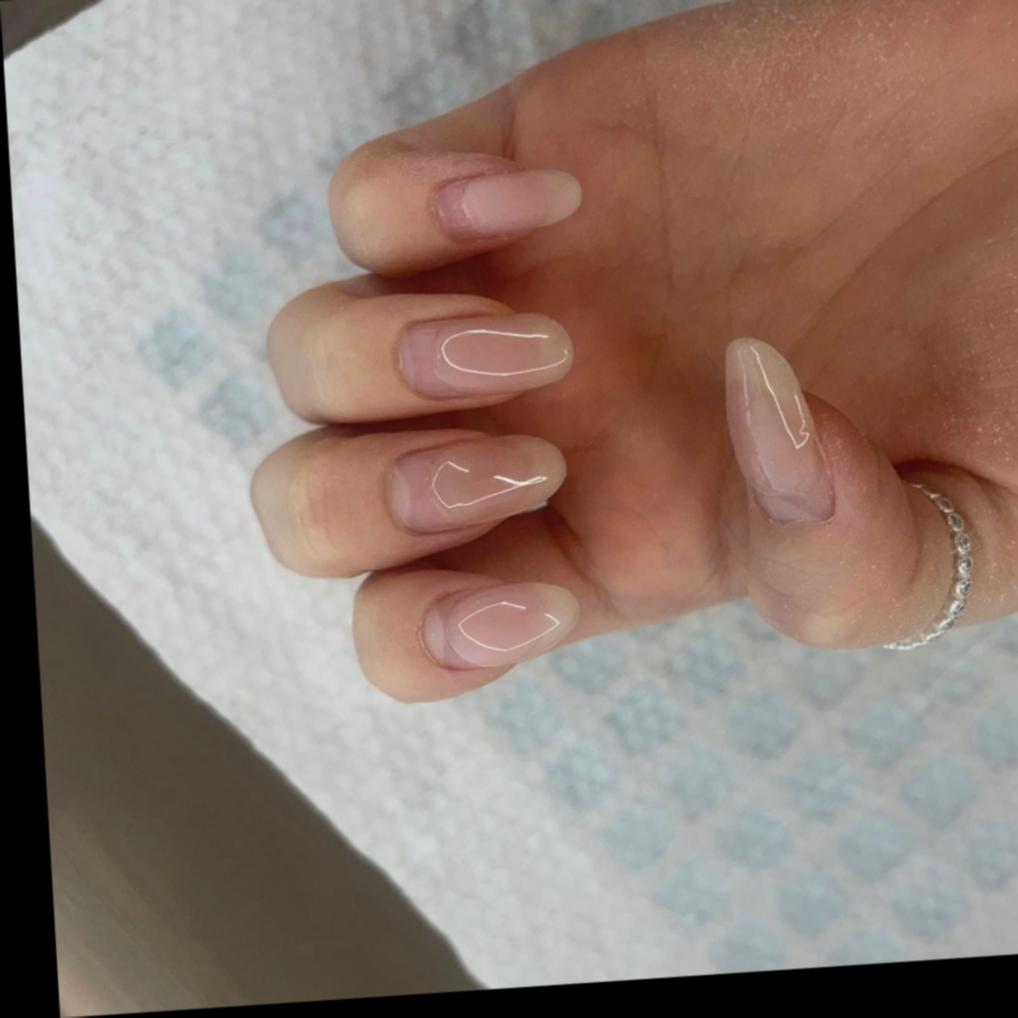nail: (721, 328, 840, 528), (383, 428, 572, 536), (395, 306, 578, 402), (417, 574, 584, 673), (430, 163, 587, 242)
